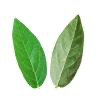Blueberry leaf: (49, 13, 86, 92), (10, 16, 48, 92)
